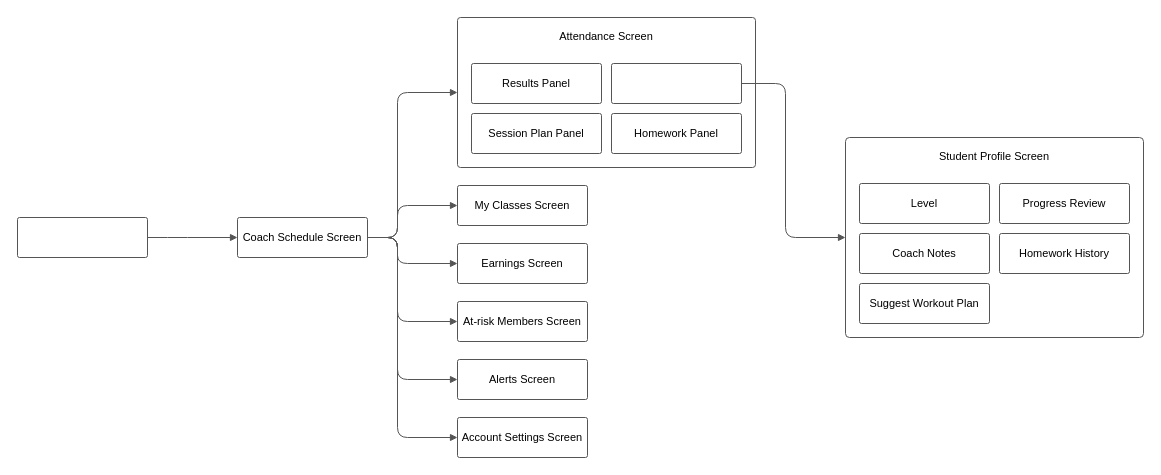
The diagram is 1161 pixels wide and 475 high, and some of its shapes have lost their labels. Here are the shapes that lost their labels. From the top down, the centre of each, then its label:
At (x=676, y=83): "Session Register".
At (x=82, y=237): "Login Screen".
